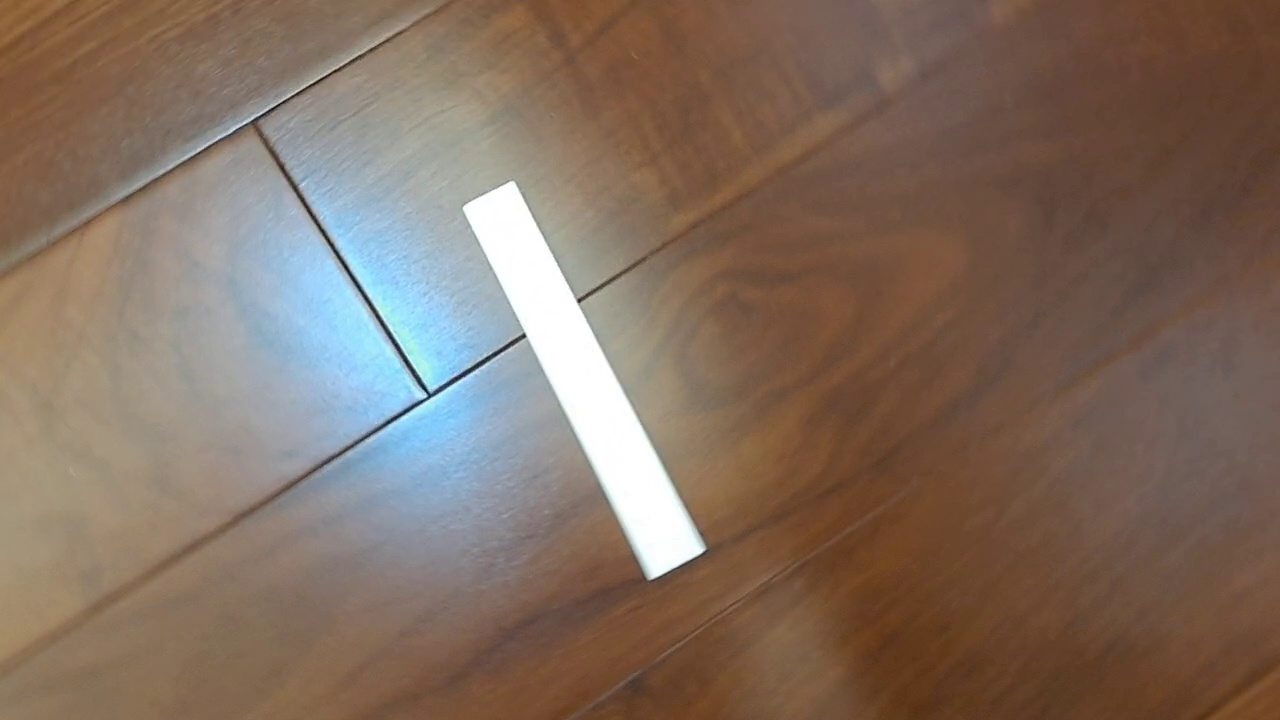ruler: (461, 178, 708, 583)
